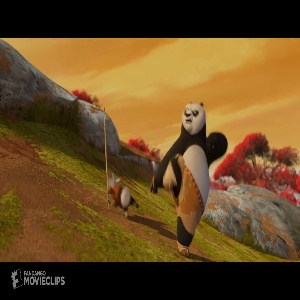po: (150, 98, 229, 258)
shifu: (105, 172, 142, 218)
